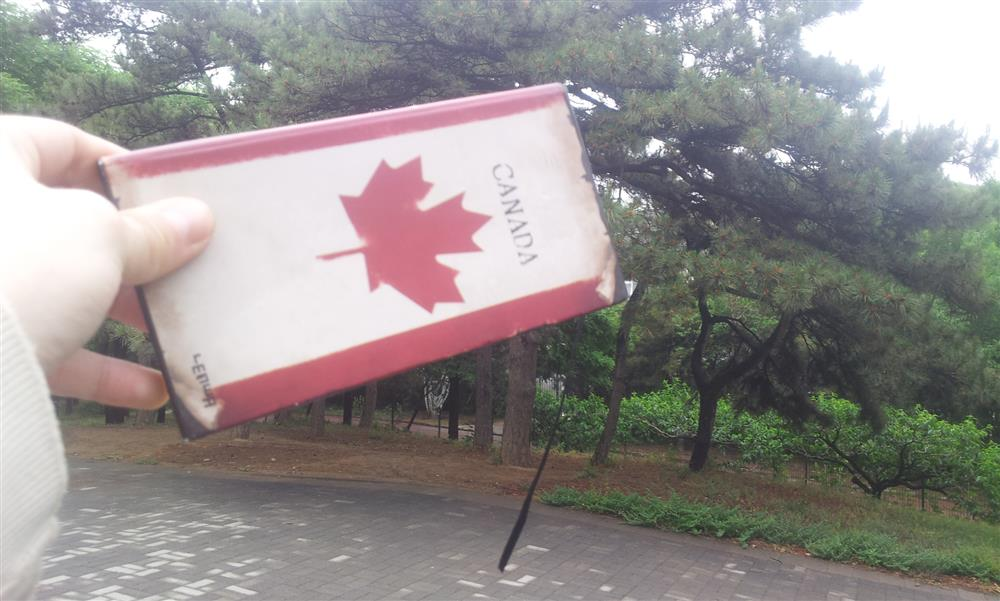canada_book: (98, 75, 627, 448)
